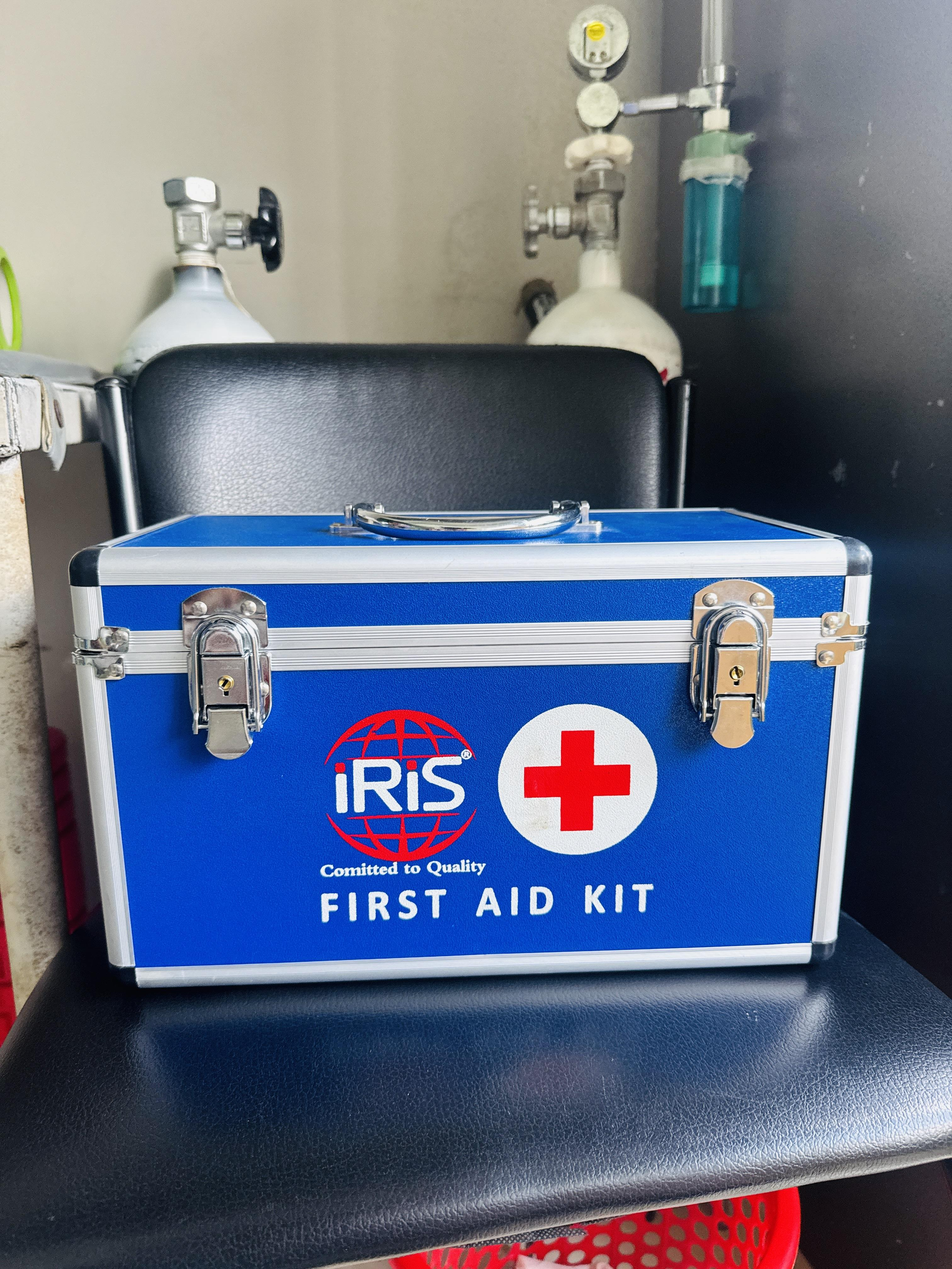FirstAidBox: (50, 468, 892, 996)
